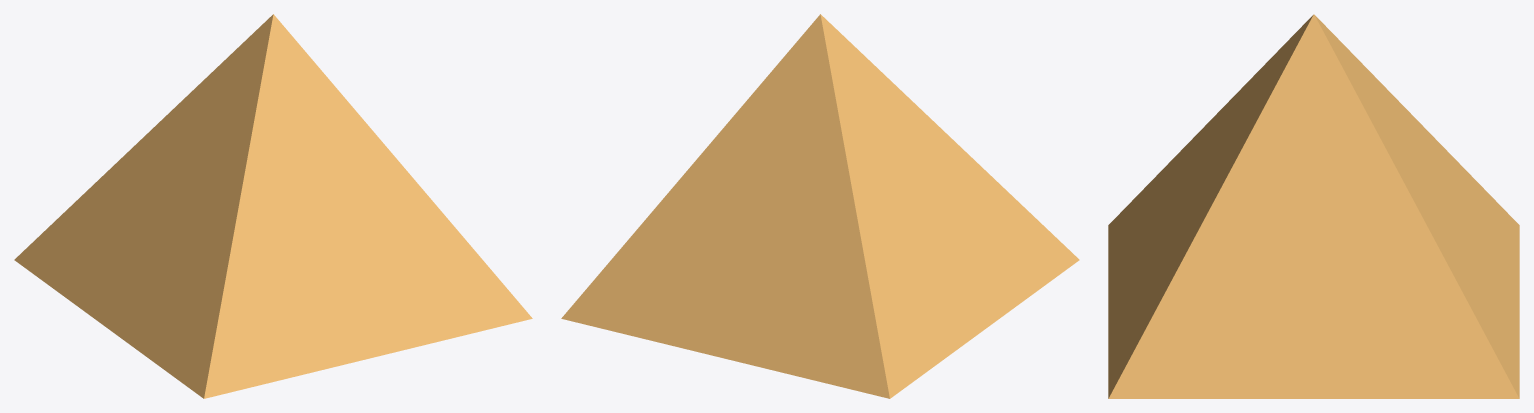
3 renders of one model, left to right at view 1: azimuth 30°, elevation 25°; view 2: azimuth 150°, elevation 25°; view 3: azimuth 270°, elevation 25°, orthographic. The views are drawn at different scales.
Visible parts, largest first — view 1: Demo Pyramid; view 2: Demo Pyramid; view 3: Demo Pyramid.
Boxes of the visible parts, box(x1,y1,x2,y2) form: Demo Pyramid: box(14, 14, 532, 398); Demo Pyramid: box(561, 14, 1079, 398); Demo Pyramid: box(1108, 14, 1519, 398).
Size of the model in its own units: 2 by 1.6 by 2.
